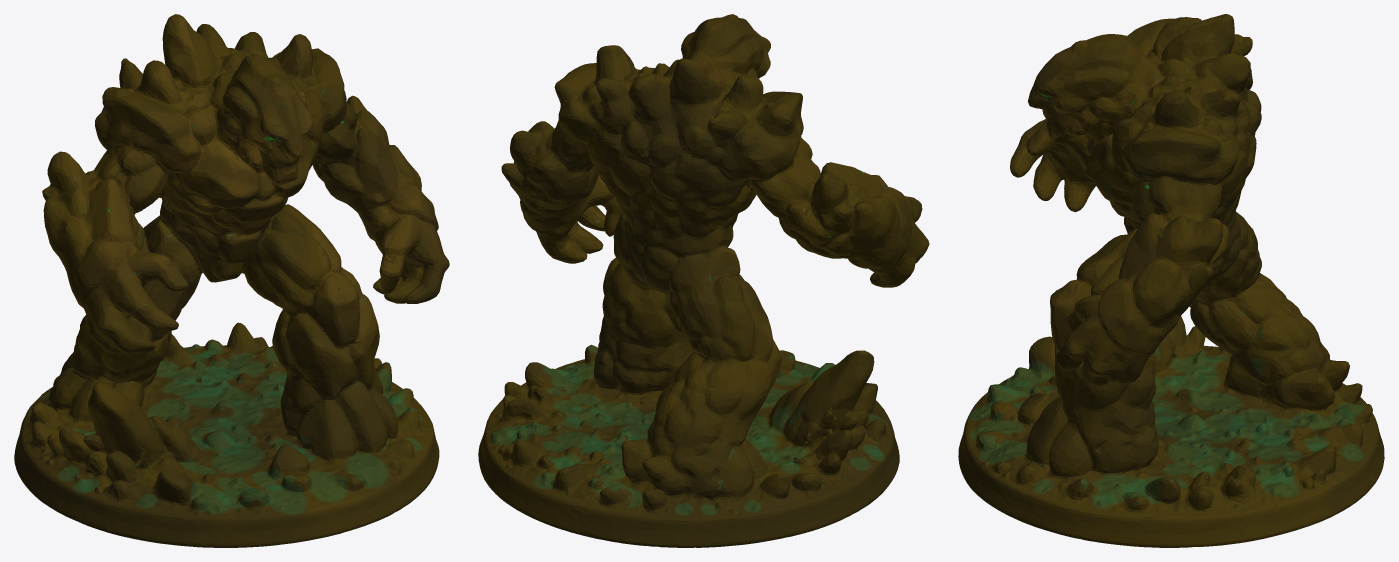
The model's file is elemental_pedra.glb.
3 views of the same model, side by side, from view 1: azimuth 30°, elevation 25°; view 2: azimuth 150°, elevation 25°; view 3: azimuth 270°, elevation 25° (orthographic).
Visible parts, largest first — view 1: tmpaz7ewqtw.ply; view 2: tmpaz7ewqtw.ply; view 3: tmpaz7ewqtw.ply.
Boxes of the visible parts, left/top/right/bottom form: tmpaz7ewqtw.ply: left=14, top=14, right=449, bottom=547; tmpaz7ewqtw.ply: left=478, top=14, right=929, bottom=547; tmpaz7ewqtw.ply: left=958, top=14, right=1384, bottom=547.
Size of the model in its own units: 1.77 by 1.96 by 1.74.
1 material, 1 textured.
